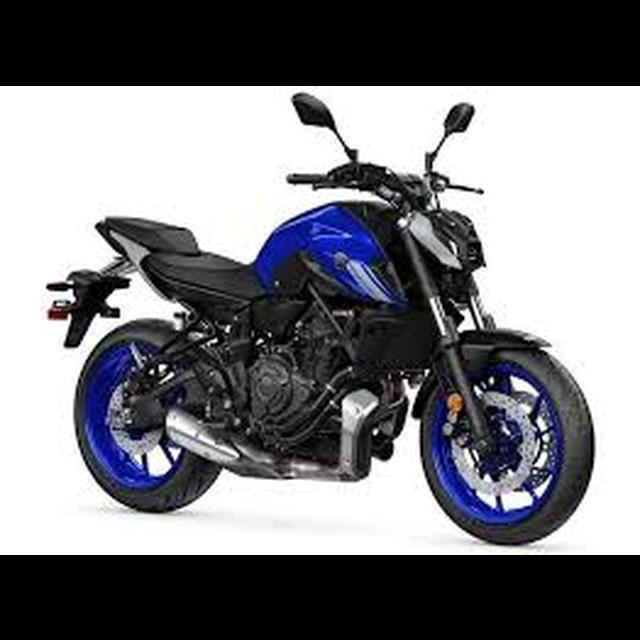motorcycle: (41, 85, 600, 552)
